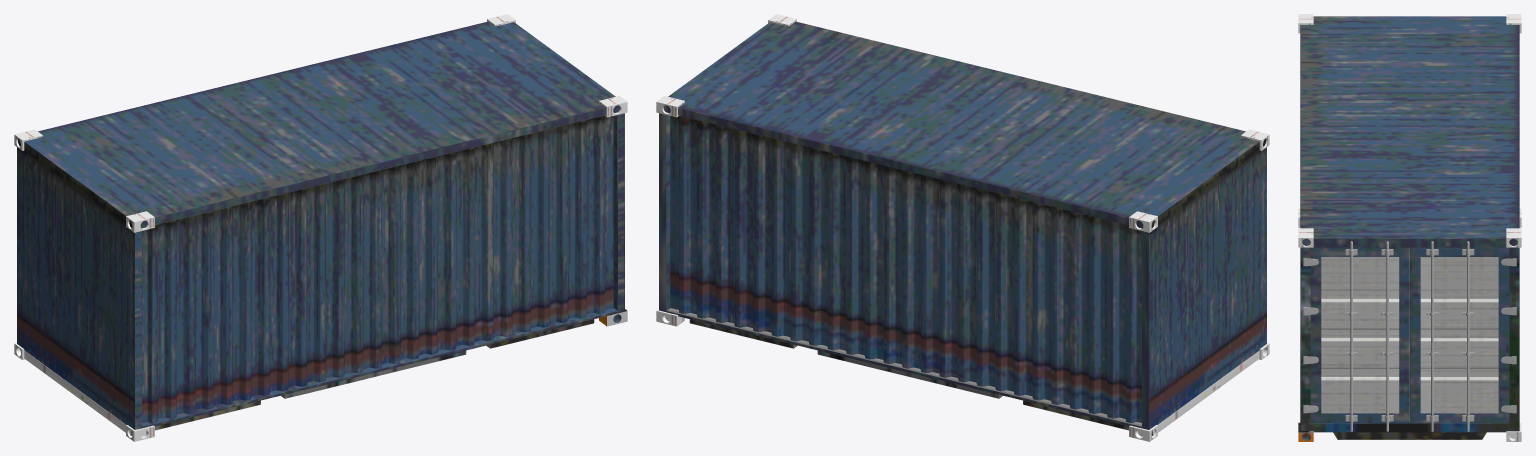
The model's file is Container.fbx.
3 renders of one model, left to right at view 1: azimuth 30°, elevation 25°; view 2: azimuth 150°, elevation 25°; view 3: azimuth 270°, elevation 25°, orthographic. The views are drawn at different scales.
Parts seen in each view (by area): view 1: Container; view 2: Container; view 3: Container.
Part boxes in pixels (x1,y1,x2,y2): Container: (14, 14, 627, 441); Container: (656, 14, 1269, 441); Container: (1298, 14, 1521, 441).
Bounding box in the file's own units: 621 × 264 × 261.
